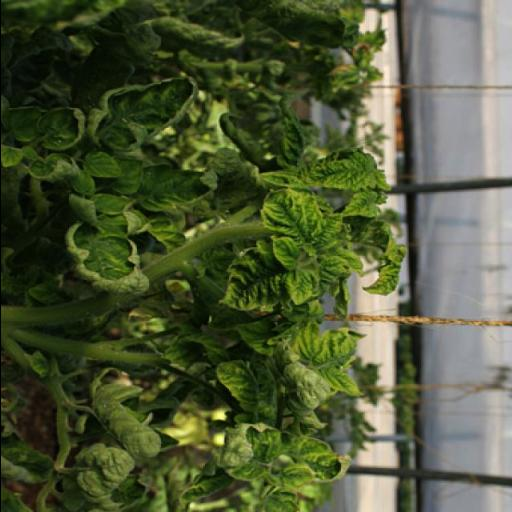disease_tomato: (220, 150, 402, 316), (258, 318, 373, 400), (94, 74, 200, 154), (260, 190, 342, 284), (66, 210, 150, 296), (254, 150, 392, 190), (221, 251, 293, 315), (216, 353, 270, 427)
